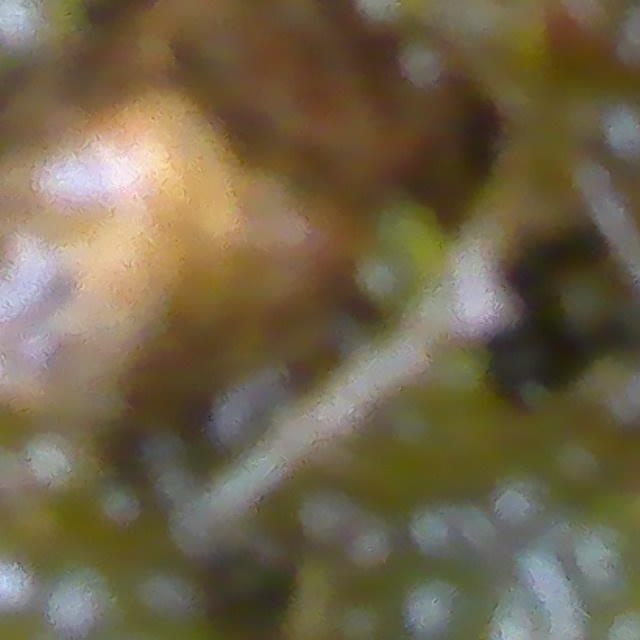SeaGrape: (401, 576, 464, 638), (342, 512, 398, 572)
